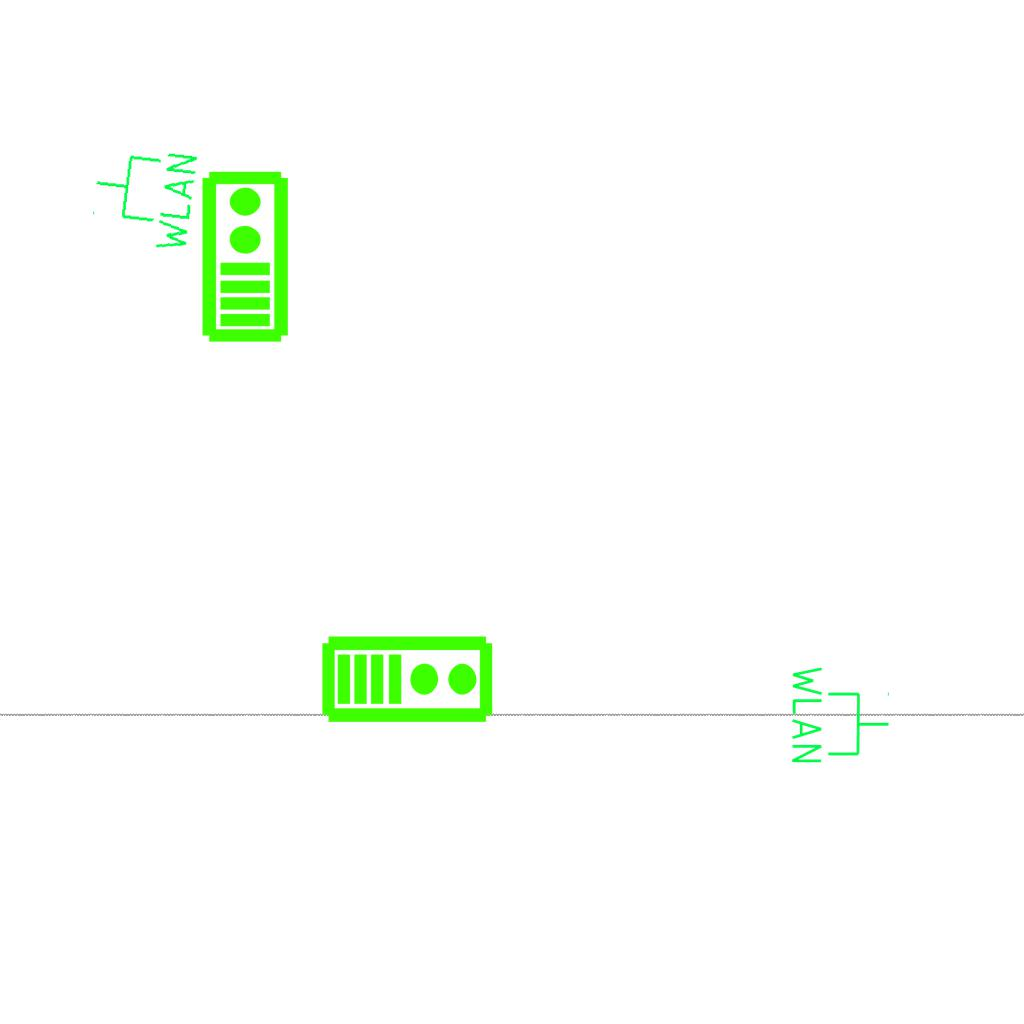Gegensprechanlage_mit_Video: (196, 168, 291, 344), (320, 630, 496, 725)
WLAN: (85, 140, 203, 257), (788, 662, 892, 767)
